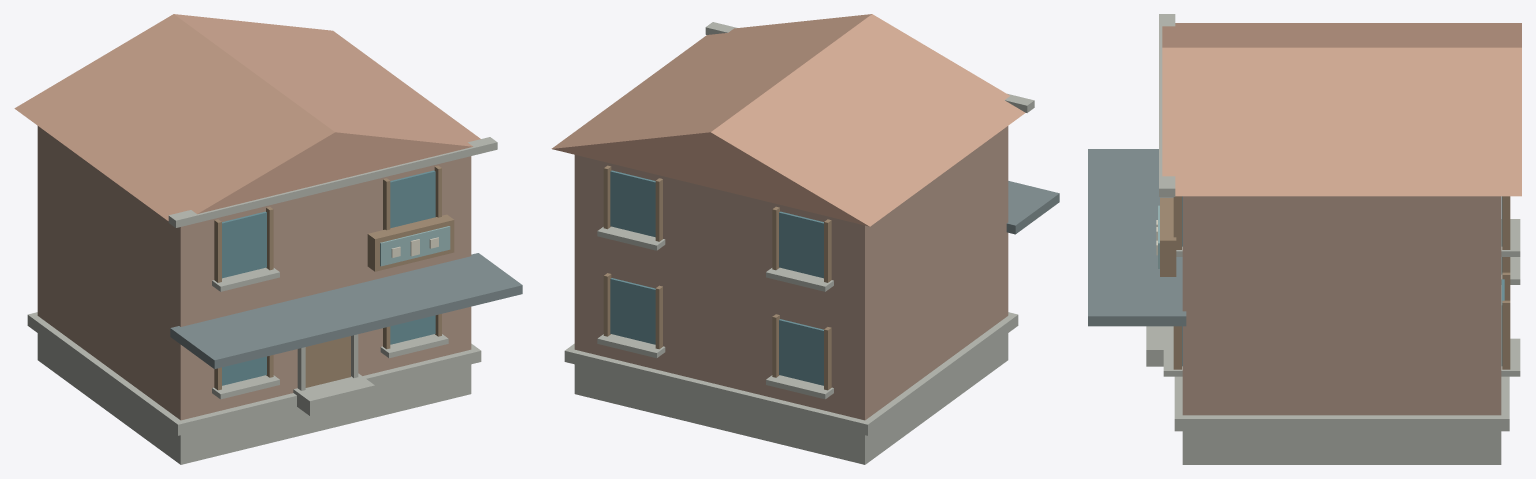
The model's file is shop-1.glb.
The picture shows the model from 3 angles, left to right: view 1: azimuth 30°, elevation 25°; view 2: azimuth 150°, elevation 25°; view 3: azimuth 270°, elevation 25°; orthographic projection. The views are drawn at different scales.
Bounding box in the file's own units: 4.54 × 4.1 × 4.76.
